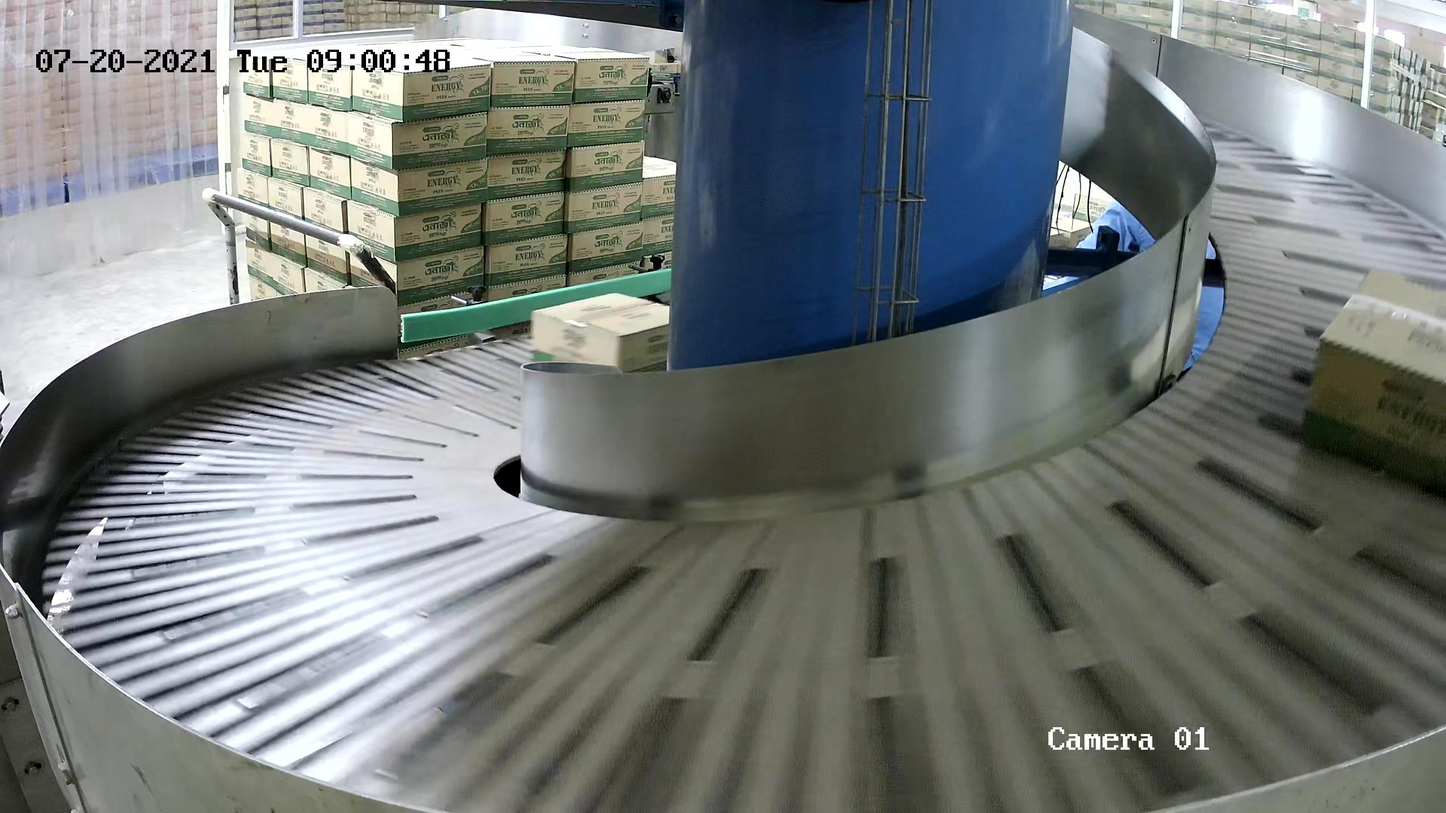Box: (1302, 266, 1446, 492), (528, 291, 670, 372)
